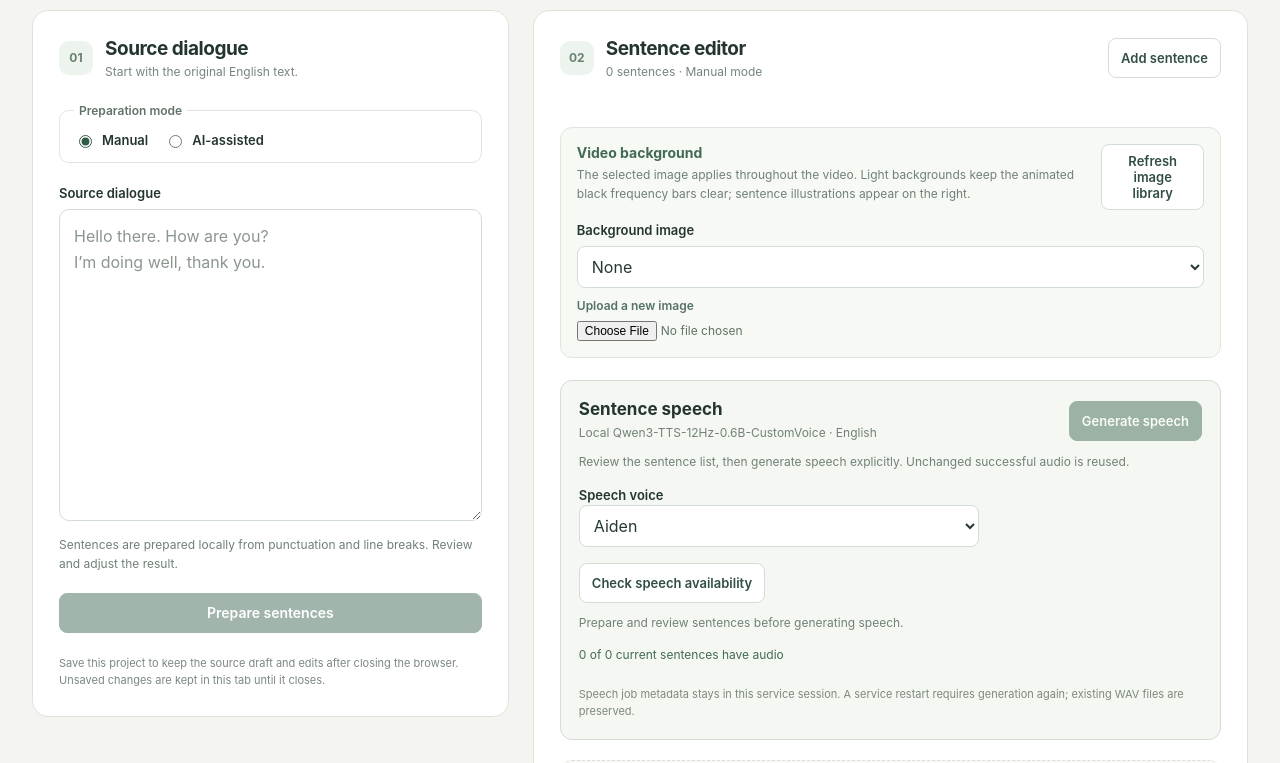
Scenario: sentence speech UI › ends a hanging poll after 15 minutes while preserving a resumable job
(page scrolled)
In the text box labelled "Source dialogue": (270, 365) x1=59 y1=209 x2=482 y2=520, type "Hello. Next."
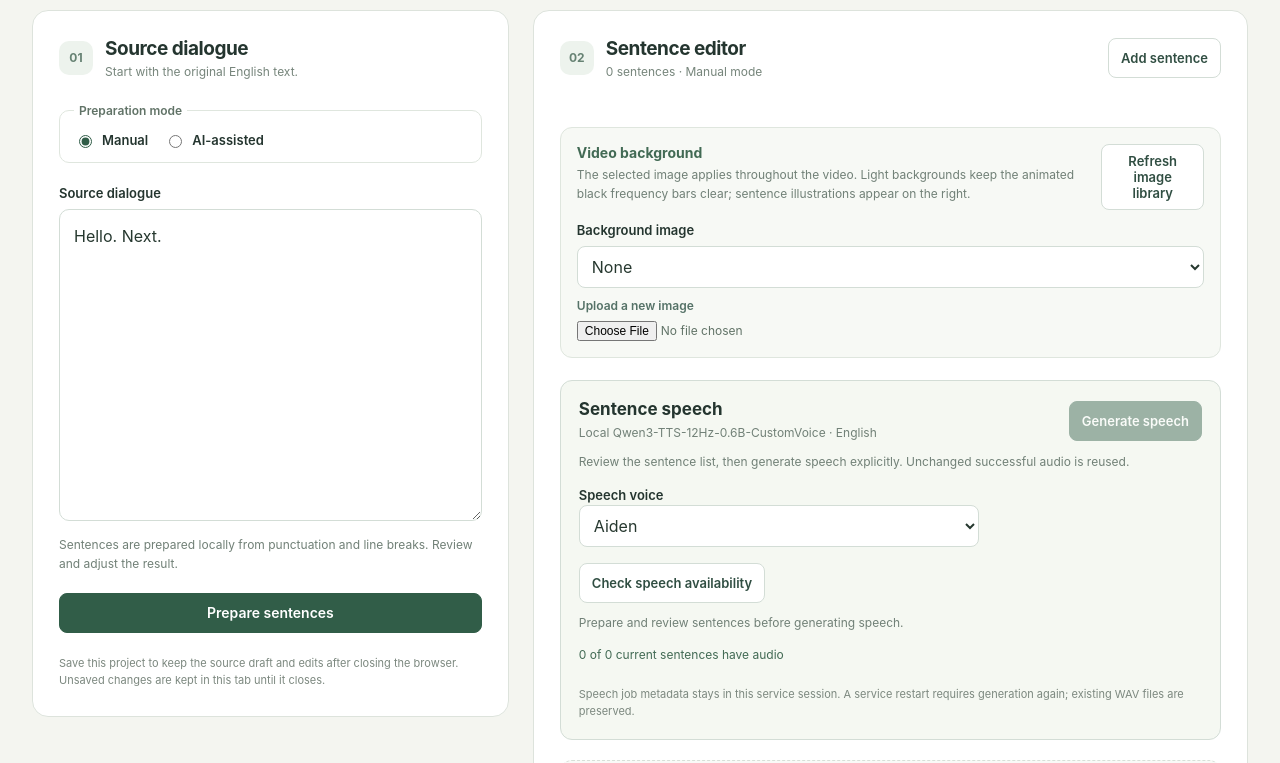
Click the button "Prepare sentences": (270, 613) x1=59 y1=593 x2=482 y2=633
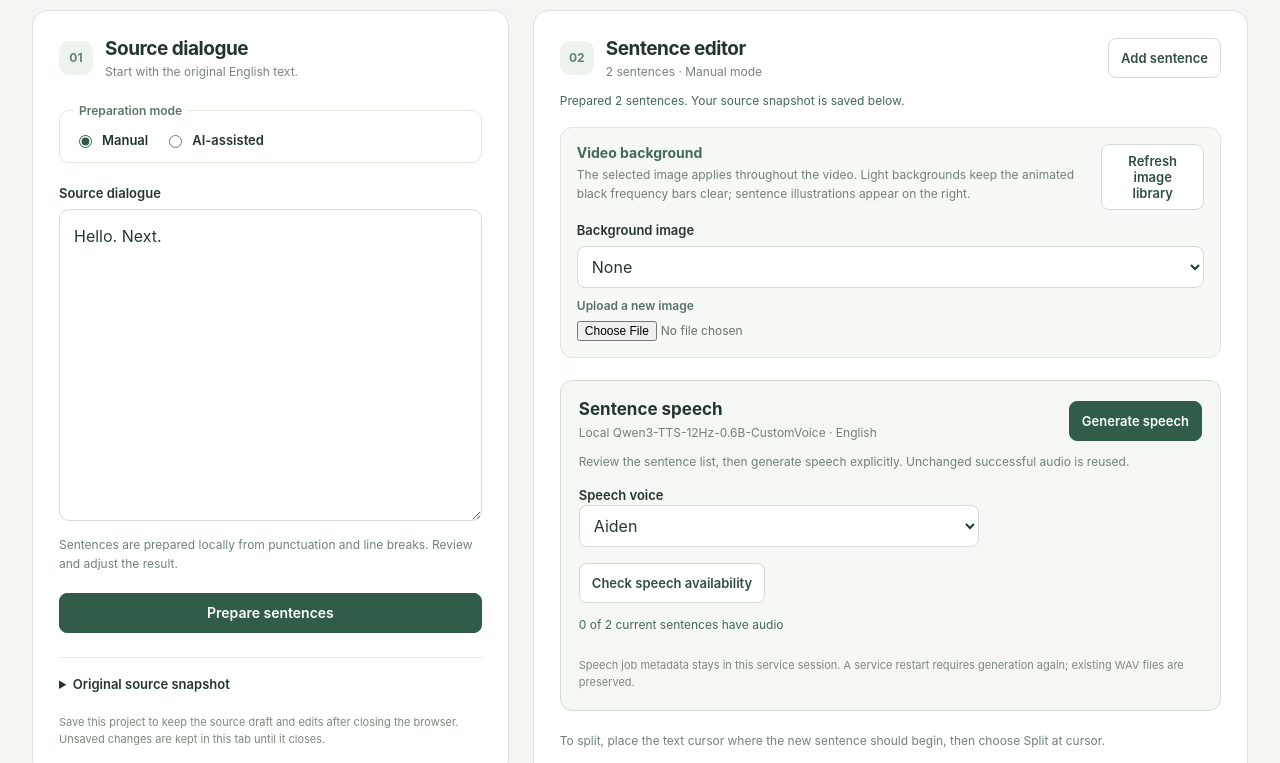
Click the button "Generate speech": (1135, 421) x1=1069 y1=401 x2=1202 y2=441
Wait 900000 ms
(page scrolled)
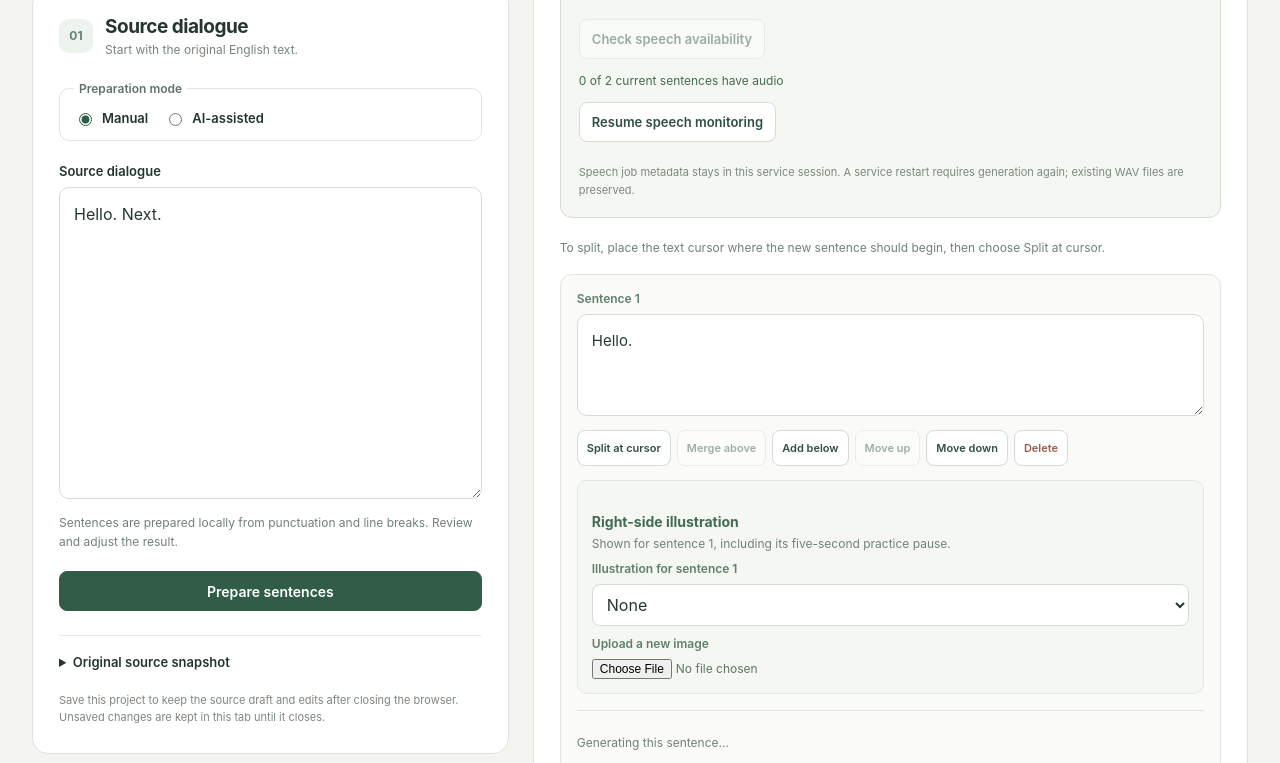
Now the text box labelled "Sentence 1" is enabled, box x1=577 y1=314 x2=1204 y2=416
Now the text box labelled "Sentence 1" holds "Hello.", box x1=577 y1=314 x2=1204 y2=416
Now the button "Resume speech monitoring" is shown, box x1=579 y1=102 x2=776 y2=142
